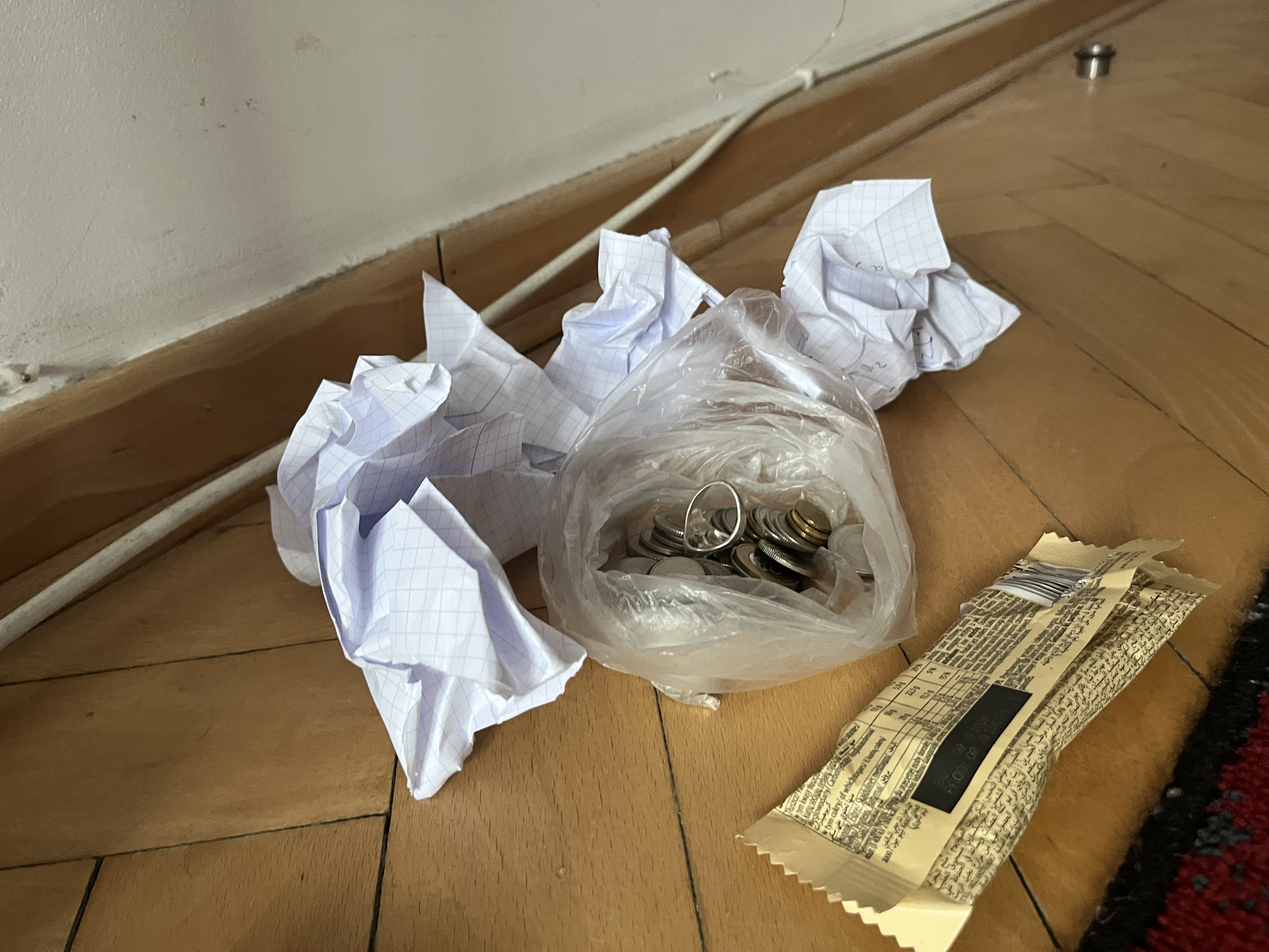METAL: (611, 460, 880, 631)
PAPER: (239, 345, 599, 778), (406, 220, 737, 468), (767, 166, 1020, 425)
PLASTIC: (550, 288, 921, 719), (1057, 450, 1269, 913)
